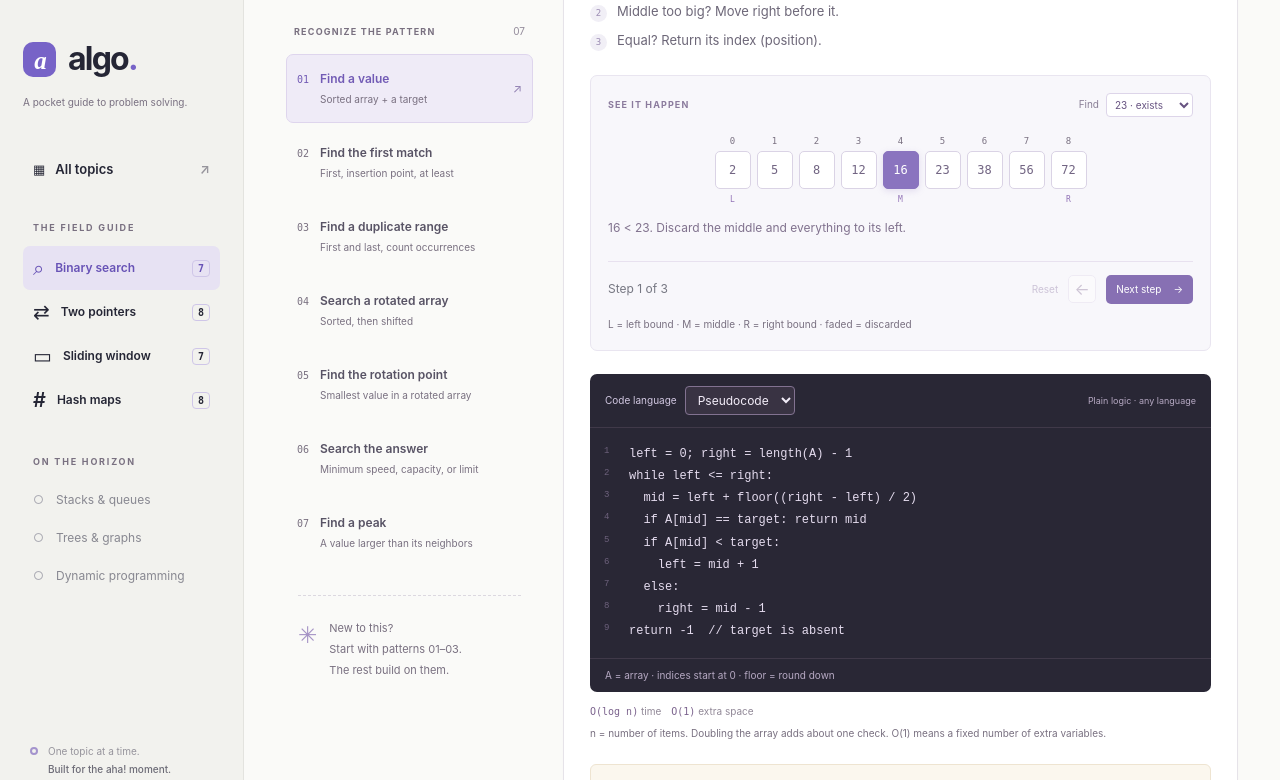
Test case: still switches and navigates when local storage throws
The image size is (1280, 780).
(page scrolled)
Step 1. Select "Java" in the dropdown labelled "Code language" → (740, 400), box [685,386,795,415]
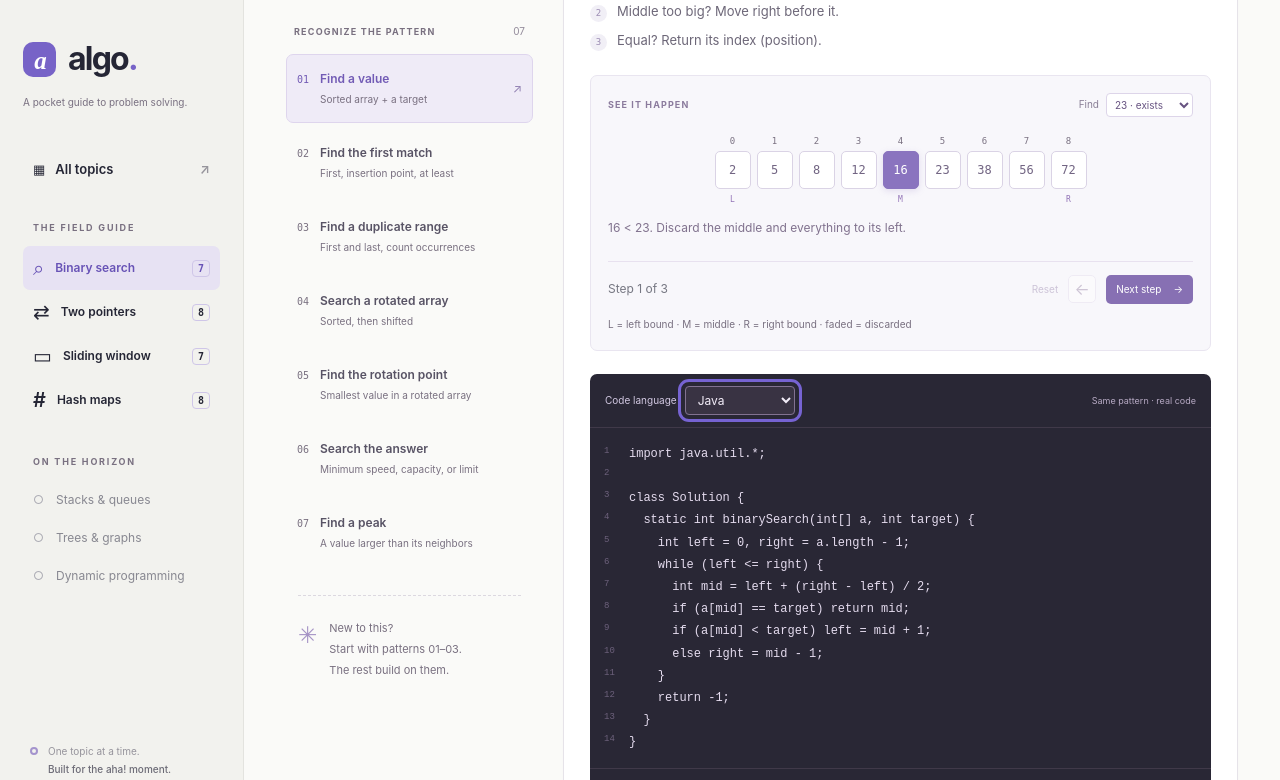
Step 2. Click the link with aria-label "Two pointers, 8 patterns" → (122, 312), box [33,300,210,324]
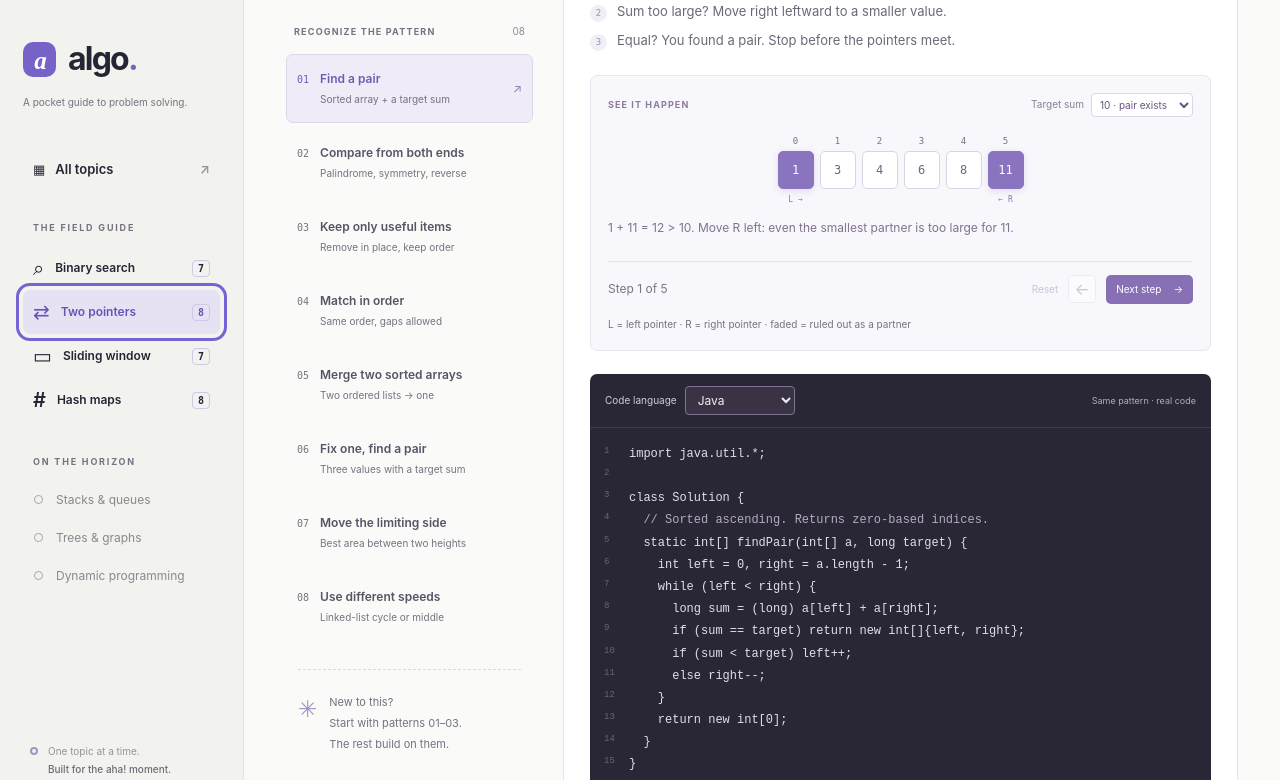
Check: the dropdown labelled "Code language" shows "Java", box [685,386,795,415]
Check: the element named "Find a pair · Java code" shows "static int[] findPair", box [629,536,968,550]
